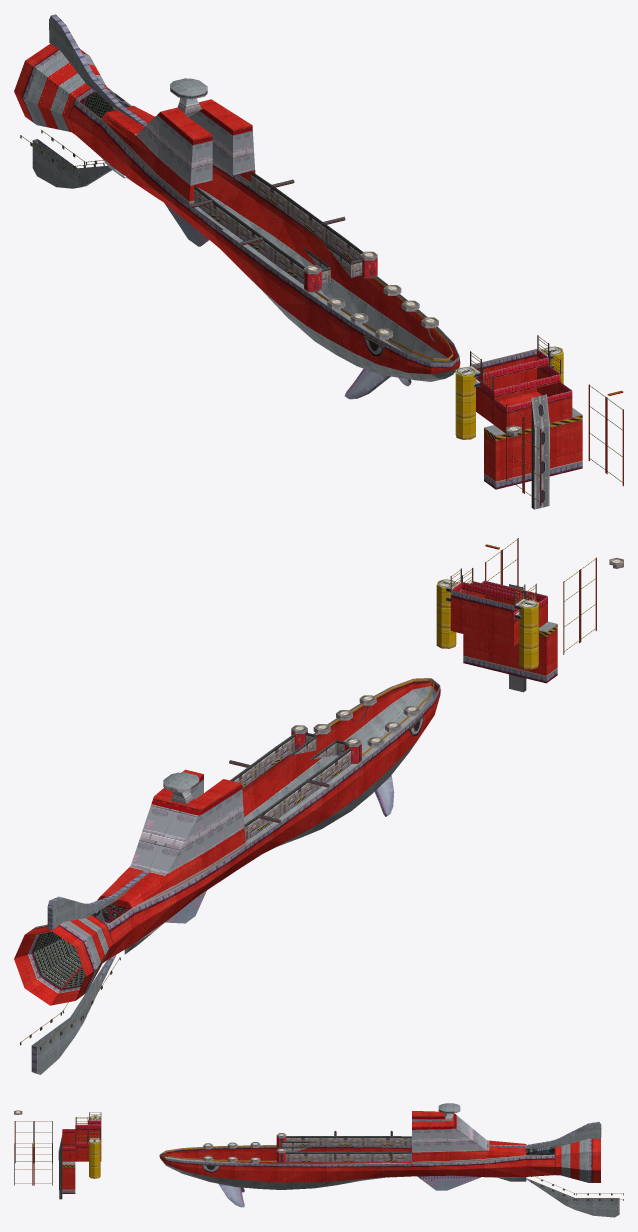
3 renders of one model, top to bottom at view 1: azimuth 30°, elevation 25°; view 2: azimuth 150°, elevation 25°; view 3: azimuth 270°, elevation 25°, orthographic. The views are drawn at different scales.
Parts seen in each view (by area): view 1: s13_on_33_2, s13_on_33_8, s13_on_33_6, s13_on_33_5, s13_on_33_11, s13_on_33_19, s13_on_33_20, s13_on_33_17, s13_on_33_7, s13_on_33_12, s13_on_33_9, s13_on_33_3 (+3 smaller); view 2: s13_on_33_2, s13_on_33_8, s13_on_33_6, s13_on_33_5, s13_on_33_3, s13_on_33_17, s13_on_33_9, s13_on_33_7, s13_on_33_19, s13_on_33_11, s13_on_33_1, s13_on_33_12 (+2 smaller); view 3: s13_on_33_2, s13_on_33_8, s13_on_33_5, s13_on_33_6, s13_on_33_11, s13_on_33_12, s13_on_33_9, s13_on_33_0, s13_on_33_1, s13_on_33_17, s13_on_33_19, s13_on_33_3 (+4 smaller).
Boxes of the visible parts, <box> form: s13_on_33_2: <box>14,14,582,489</box>; s13_on_33_8: <box>32,16,581,435</box>; s13_on_33_6: <box>102,108,254,185</box>; s13_on_33_5: <box>194,171,517,436</box>; s13_on_33_11: <box>26,52,106,131</box>; s13_on_33_19: <box>472,349,572,411</box>; s13_on_33_20: <box>531,394,549,509</box>; s13_on_33_17: <box>455,352,563,439</box>; s13_on_33_7: <box>158,108,623,505</box>; s13_on_33_12: <box>164,203,411,399</box>; s13_on_33_9: <box>170,86,521,434</box>; s13_on_33_3: <box>85,92,623,505</box>; s13_on_33_2: <box>14,590,557,1074</box>; s13_on_33_8: <box>32,621,557,1074</box>; s13_on_33_6: <box>97,779,244,954</box>; s13_on_33_5: <box>230,564,623,840</box>; s13_on_33_3: <box>33,538,596,989</box>; s13_on_33_17: <box>436,585,538,669</box>; s13_on_33_9: <box>163,563,623,797</box>; s13_on_33_7: <box>151,538,596,815</box>; s13_on_33_19: <box>451,580,547,620</box>; s13_on_33_11: <box>42,917,109,991</box>; s13_on_33_1: <box>20,538,596,1050</box>; s13_on_33_12: <box>165,775,394,923</box>; s13_on_33_2: <box>14,1111,601,1193</box>; s13_on_33_8: <box>62,1103,619,1217</box>; s13_on_33_5: <box>281,1136,411,1162</box>; s13_on_33_6: <box>412,1115,520,1177</box>; s13_on_33_11: <box>560,1139,588,1182</box>; s13_on_33_12: <box>218,1175,481,1207</box>; s13_on_33_9: <box>14,1109,460,1163</box>; s13_on_33_0: <box>15,1112,622,1199</box>; s13_on_33_1: <box>58,1112,623,1200</box>; s13_on_33_17: <box>89,1118,100,1178</box>; s13_on_33_19: <box>62,1120,101,1149</box>; s13_on_33_3: <box>14,1121,52,1185</box>.
Bounding box in the file's own units: 510 × 754 × 3739.
Materials: 21 (21 with a texture image).
